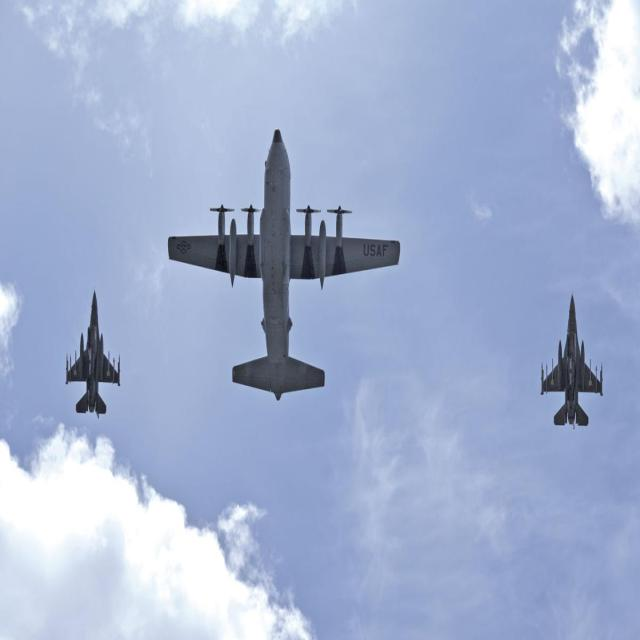MIL_Plane: (184, 128, 384, 401), (540, 289, 604, 430), (70, 287, 126, 418)
